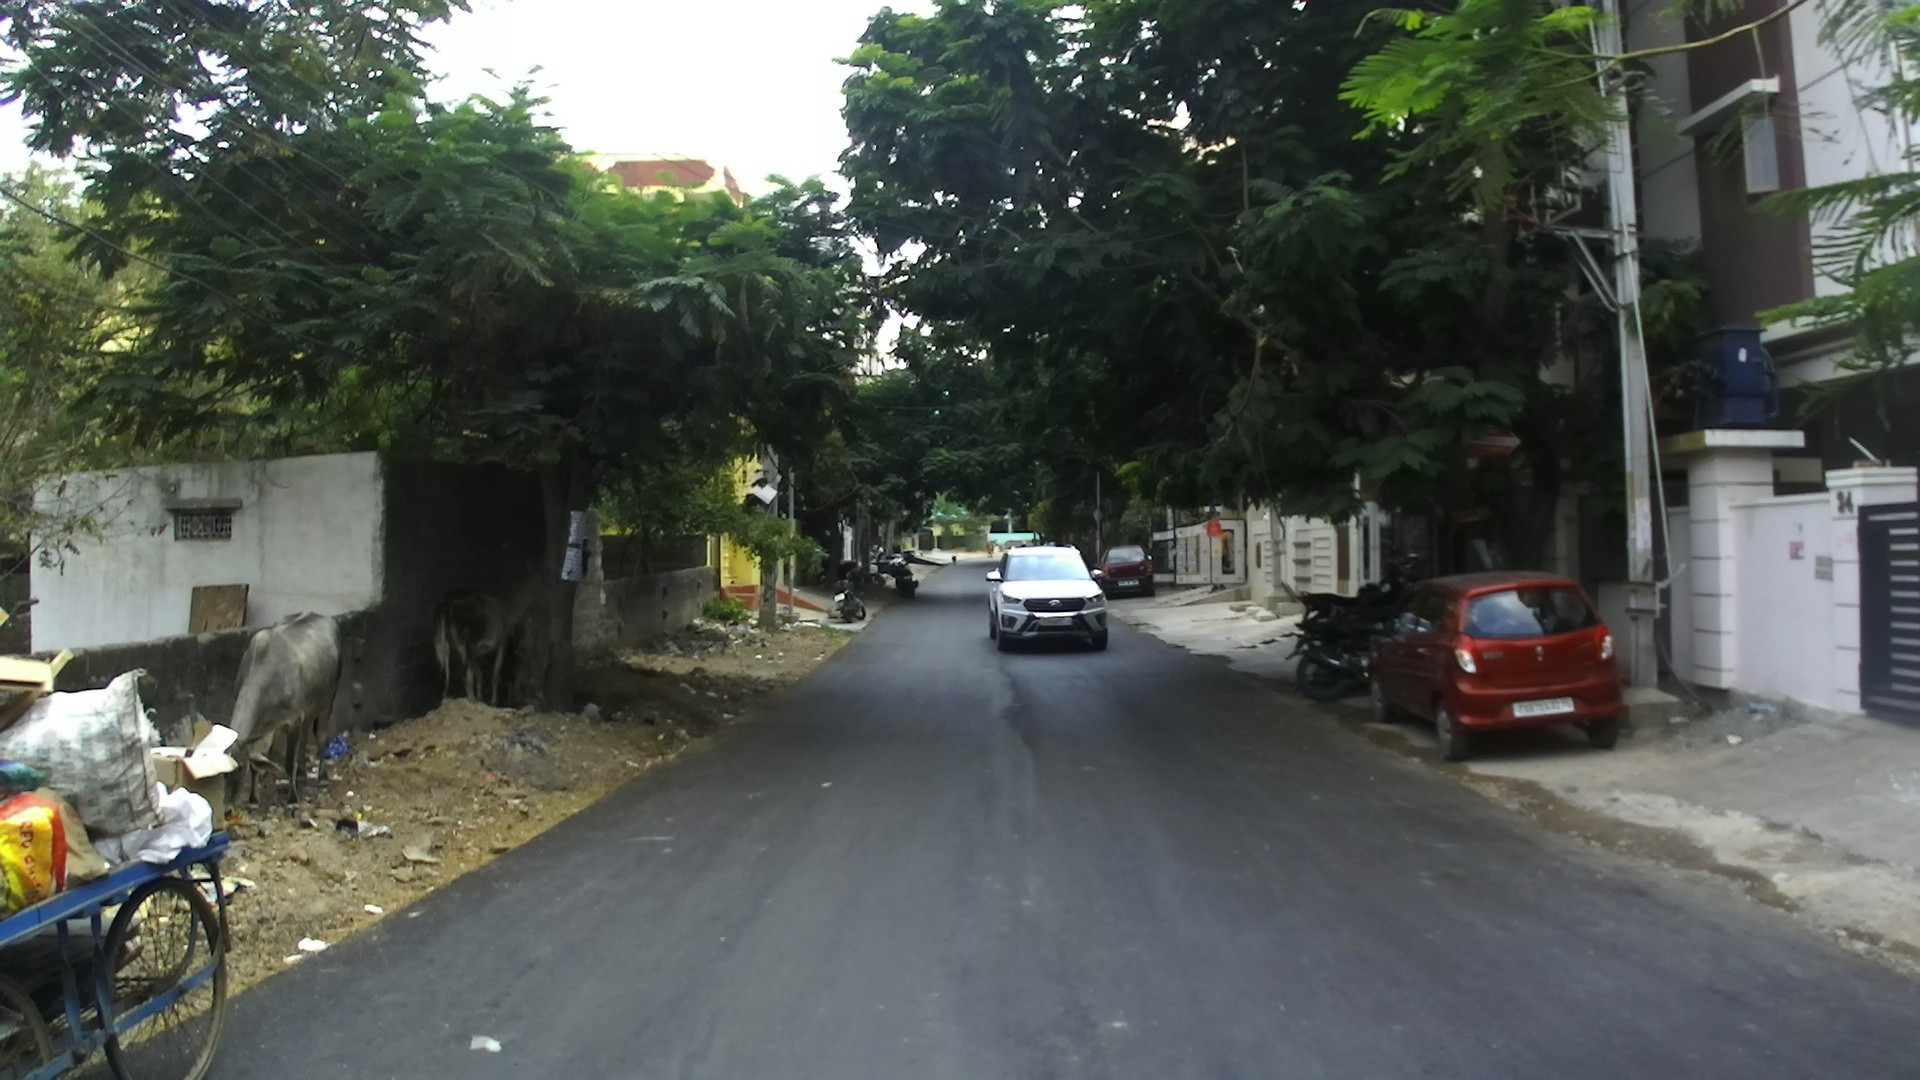vehicle: (0, 667, 252, 1073), (1365, 572, 1629, 760), (985, 545, 1108, 651), (1288, 582, 1403, 692), (1095, 549, 1155, 597)
